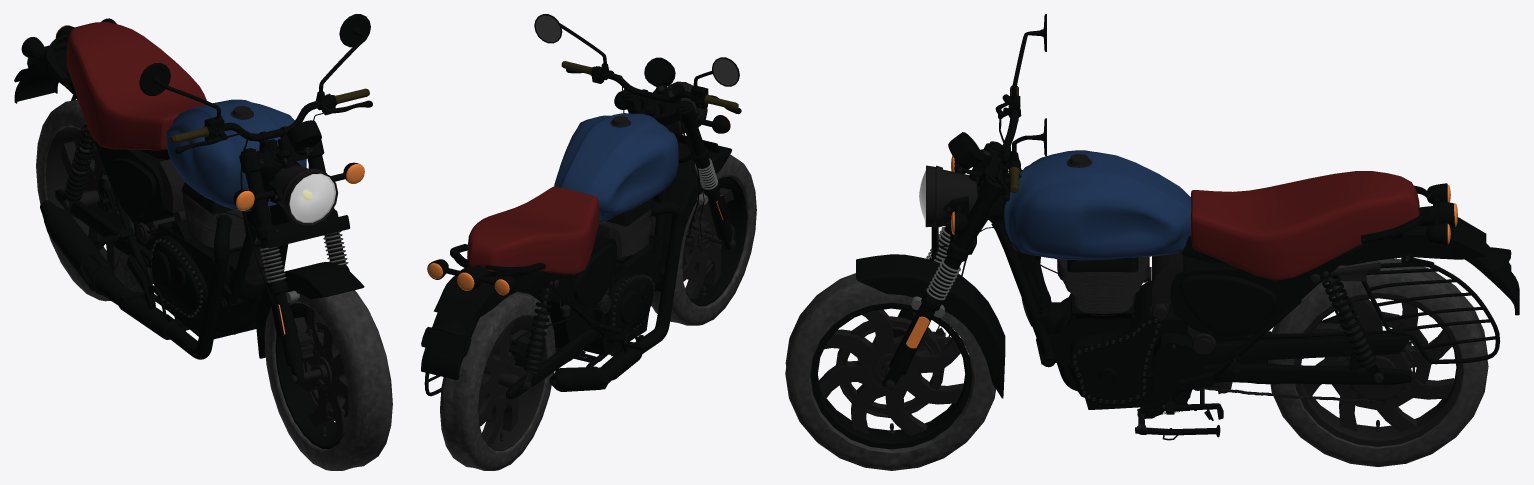
Rendered from Royal_Enfield_Hunter_350.glb.
The picture shows the model from 3 angles, left to right: view 1: azimuth 30°, elevation 25°; view 2: azimuth 150°, elevation 25°; view 3: azimuth 270°, elevation 25°; orthographic projection. The views are drawn at different scales.
Visible parts, largest first — view 1: polySurface142, polySurface239, polySurface125, polySurface278, polySurface301, polySurface246, polySurface284, polySurface309, polySurface166, polySurface50, polySurface112, polySurface327 (+30 smaller); view 2: polySurface125, polySurface142, polySurface284, polySurface239, polySurface185, polySurface166, polySurface327, polySurface278, polySurface140, polySurface301, polySurface246, polySurface112 (+22 smaller); view 3: polySurface142, polySurface125, polySurface284, polySurface239, polySurface246, polySurface278, polySurface119, polySurface112, polySurface185, polySurface327, polySurface332, polySurface706 (+18 smaller).
Boxes of the visible parts, x1=… form: polySurface142: x1=66, y1=22, x2=206, y2=150; polySurface239: x1=265, y1=290, x2=392, y2=470; polySurface125: x1=166, y1=99, x2=306, y2=212; polySurface278: x1=107, y1=149, x2=173, y2=223; polySurface301: x1=239, y1=148, x2=305, y2=384; polySurface246: x1=294, y1=307, x2=348, y2=441; polySurface284: x1=36, y1=99, x2=152, y2=301; polySurface309: x1=272, y1=165, x2=337, y2=225; polySurface166: x1=165, y1=215, x2=231, y2=359; polySurface50: x1=40, y1=200, x2=114, y2=294; polySurface112: x1=255, y1=262, x2=364, y2=328; polySurface327: x1=275, y1=303, x2=344, y2=448; polySurface125: x1=554, y1=113, x2=678, y2=223; polySurface142: x1=467, y1=186, x2=598, y2=274; polySurface284: x1=440, y1=291, x2=555, y2=470; polySurface239: x1=651, y1=154, x2=756, y2=325; polySurface185: x1=478, y1=319, x2=531, y2=444; polySurface166: x1=635, y1=201, x2=684, y2=353; polySurface327: x1=686, y1=177, x2=747, y2=306; polySurface278: x1=564, y1=235, x2=617, y2=310; polySurface140: x1=433, y1=267, x2=536, y2=320; polySurface301: x1=676, y1=100, x2=732, y2=249; polySurface246: x1=682, y1=188, x2=734, y2=298; polySurface112: x1=654, y1=145, x2=731, y2=256; polySurface142: x1=1190, y1=171, x2=1419, y2=280; polySurface125: x1=1004, y1=150, x2=1191, y2=260; polySurface284: x1=1268, y1=258, x2=1488, y2=466; polySurface239: x1=785, y1=273, x2=995, y2=470; polySurface246: x1=819, y1=309, x2=963, y2=435; polySurface278: x1=1170, y1=254, x2=1285, y2=340; polySurface119: x1=1070, y1=281, x2=1160, y2=405; polySurface112: x1=856, y1=254, x2=1005, y2=361; polySurface185: x1=1304, y1=299, x2=1453, y2=431; polySurface327: x1=810, y1=303, x2=972, y2=449; polySurface332: x1=1294, y1=293, x2=1463, y2=446; polySurface706: x1=1193, y1=334, x2=1410, y2=370.
Size of the model in its own units: 0.0453 by 0.0695 by 0.1167.
Materials: 15 (1 with a texture image).
